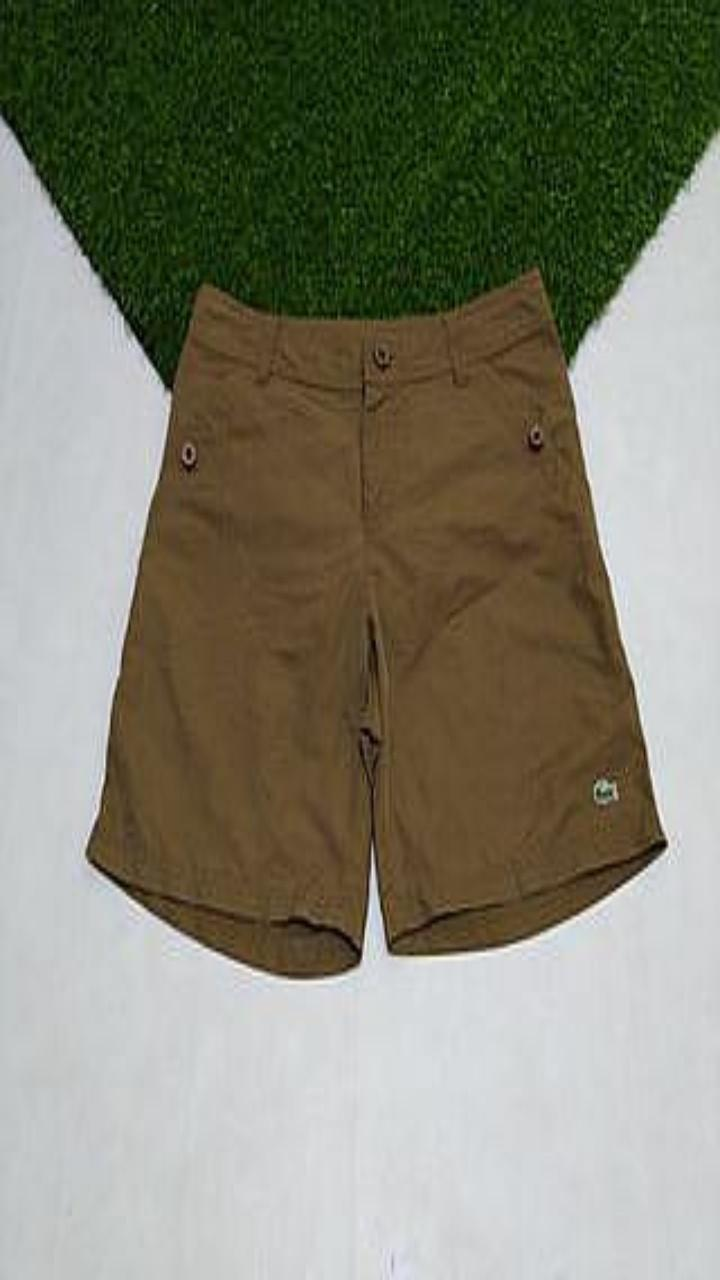Shorts: (87, 268, 666, 975)
